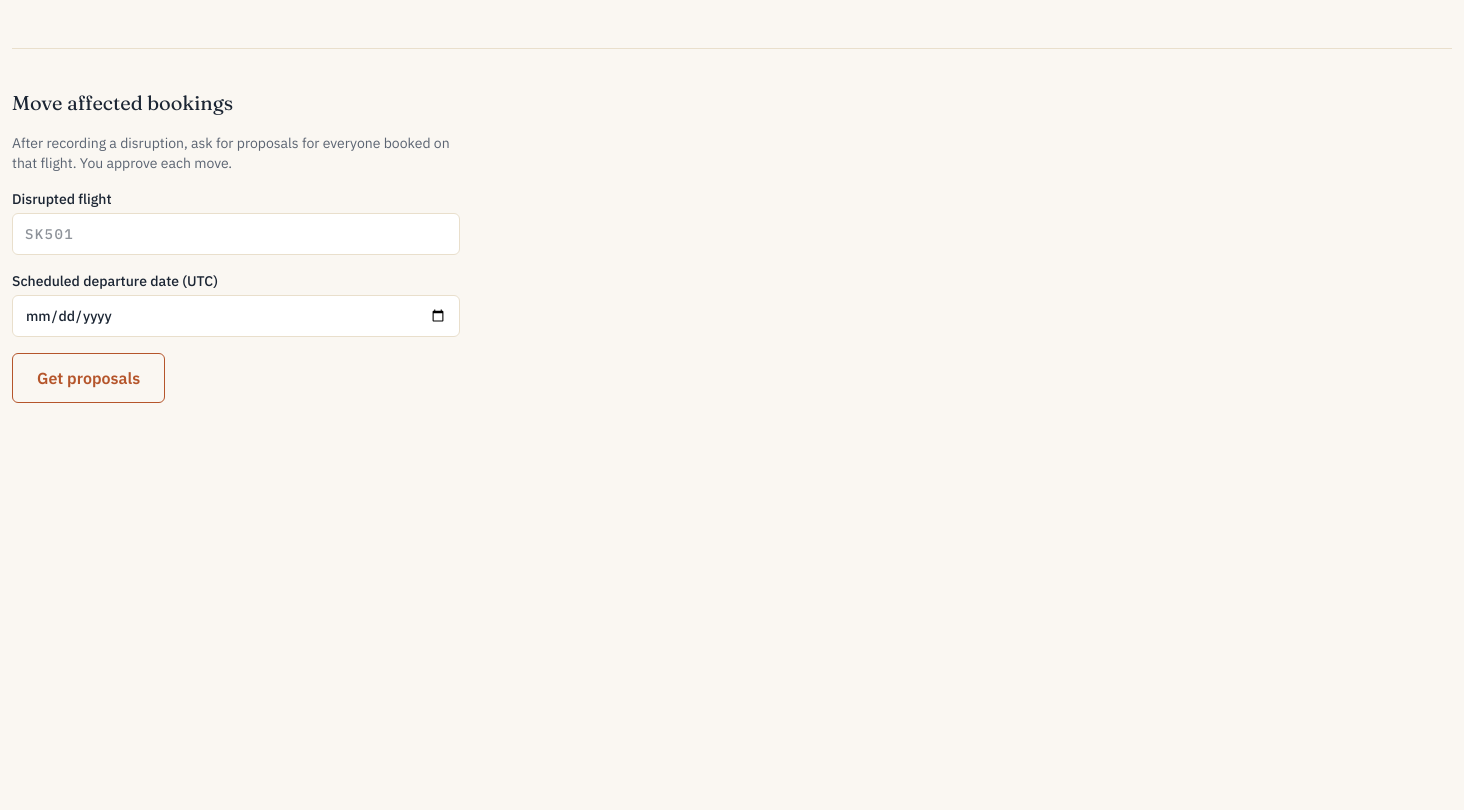
ProposalsPanel › stops and asks for a new sign-in when the session has ended partway through
The image size is (1464, 810).
Submit the form named "Get proposals", box top-left (12, 89), bottom-right (460, 403)
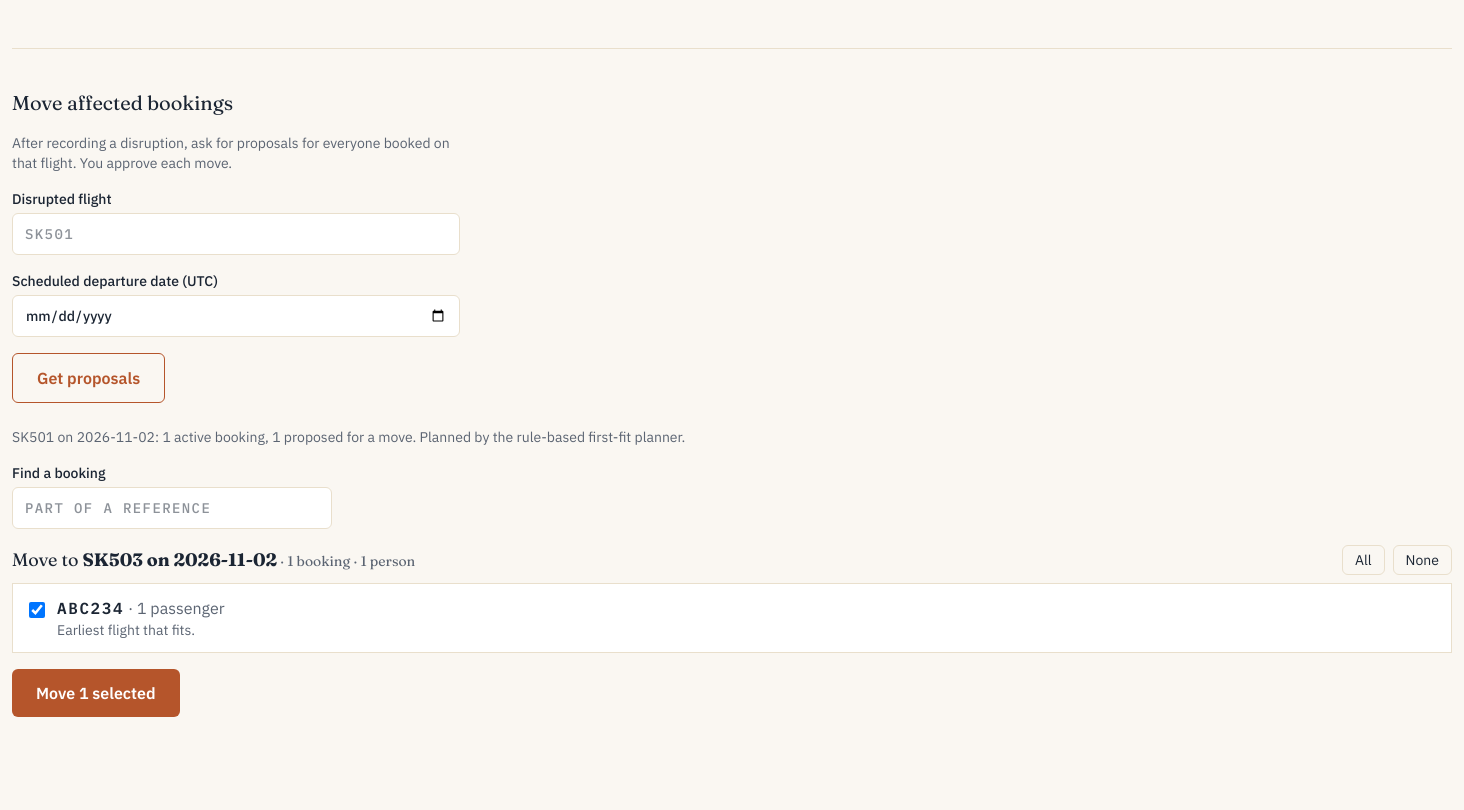
Now the text "ABC234" is shown, box top-left (57, 598), bottom-right (124, 618)
Click the button "Move 1 selected". click: (96, 693)
box: top-left (12, 669), bottom-right (180, 717)
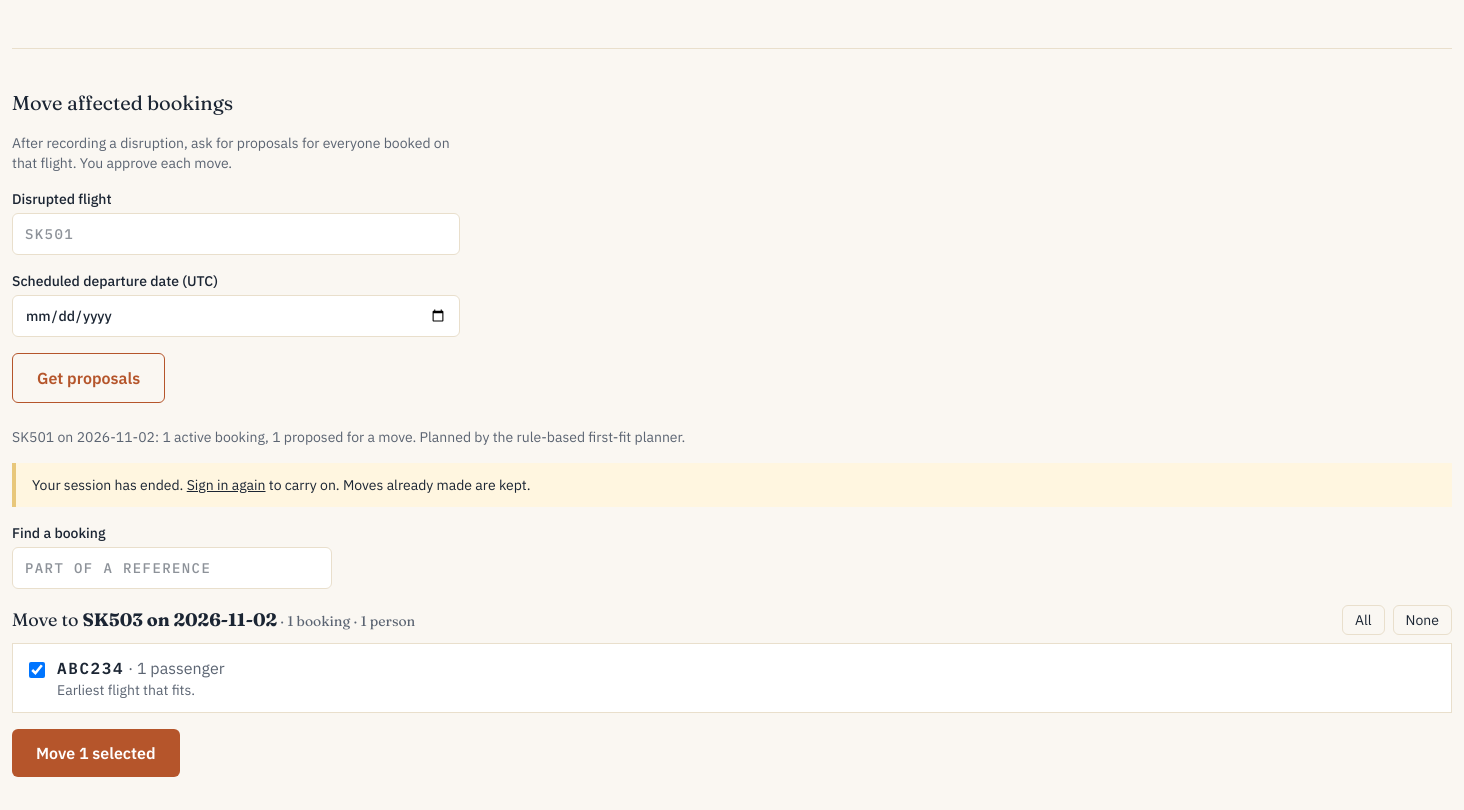
Now the message shows "session has ended", box top-left (32, 476), bottom-right (187, 494)
